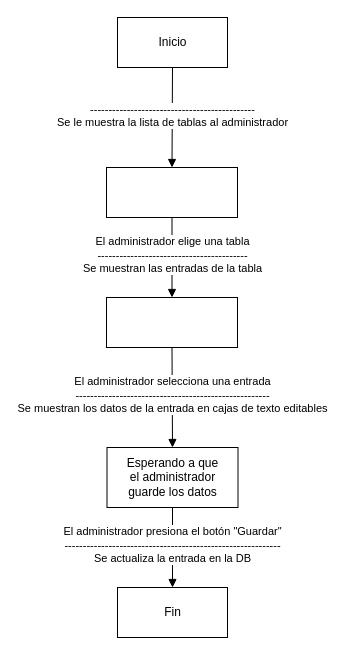
This 344x655 diagram has some shape labels left out. Each missing label, with the centre of its shape:
"Esperando selección de entrada" goes at (172,322).
"Esperando selección de tabla" goes at (172,192).
